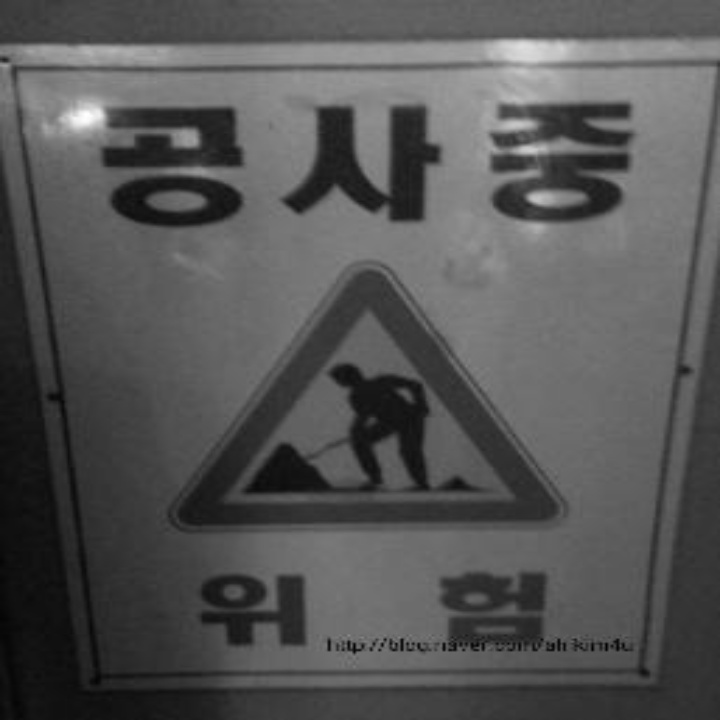const: (214, 283, 539, 512)
